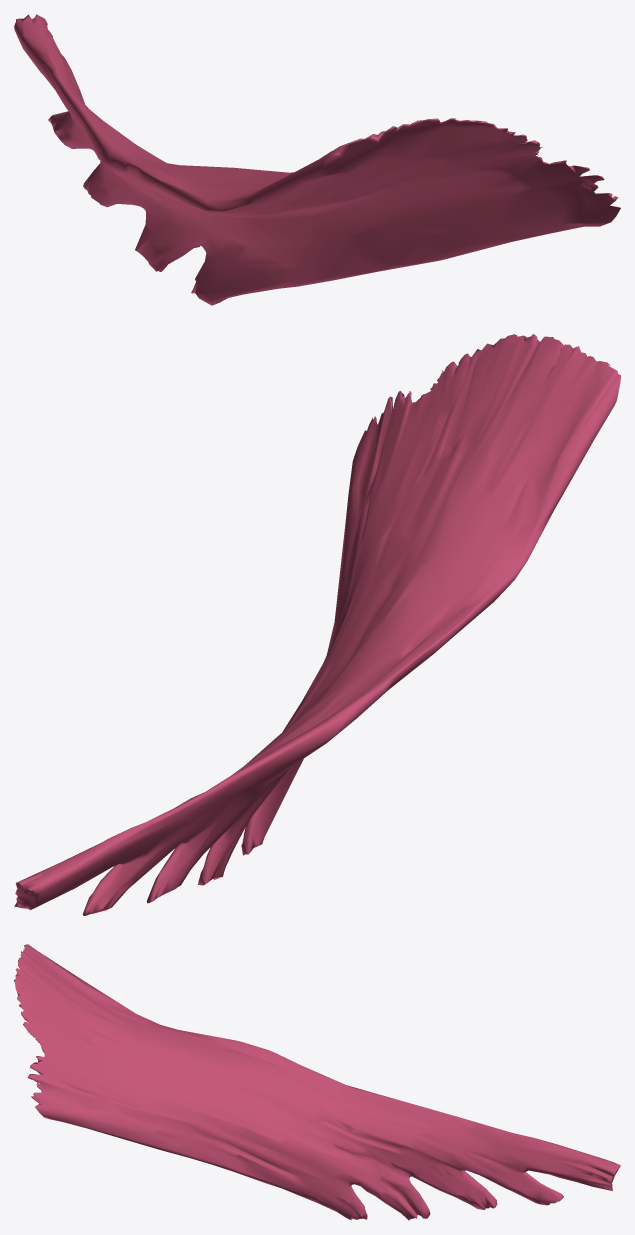
3 views of the same model, one above another, from view 1: azimuth 30°, elevation 25°; view 2: azimuth 150°, elevation 25°; view 3: azimuth 270°, elevation 25° (orthographic). The views are drawn at different scales.
Parts seen in each view (by area): view 1: 左侧头棘肌; view 2: 左侧头棘肌; view 3: 左侧头棘肌.
Part boxes in pixels (x1=…): 左侧头棘肌: x1=14, y1=14, x2=620, y2=305; 左侧头棘肌: x1=14, y1=334, x2=620, y2=915; 左侧头棘肌: x1=14, y1=944, x2=620, y2=1220.
Bounding box in the file's own units: 0.0611 × 0.0805 × 0.1828.
